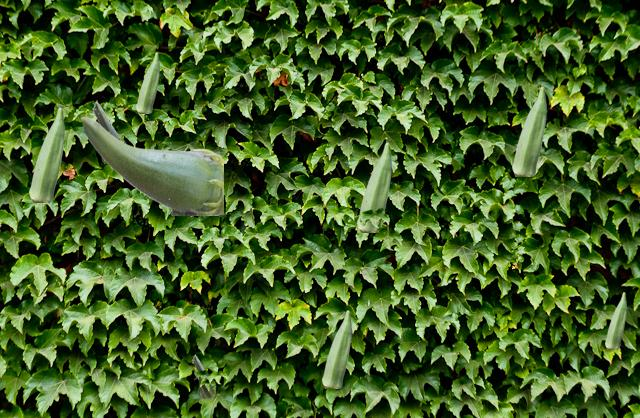okra: (80, 116, 222, 214), (29, 107, 63, 201), (512, 86, 545, 175), (357, 142, 390, 231), (322, 310, 350, 387), (92, 100, 125, 164), (136, 52, 158, 112), (605, 292, 625, 348), (192, 354, 214, 397)
